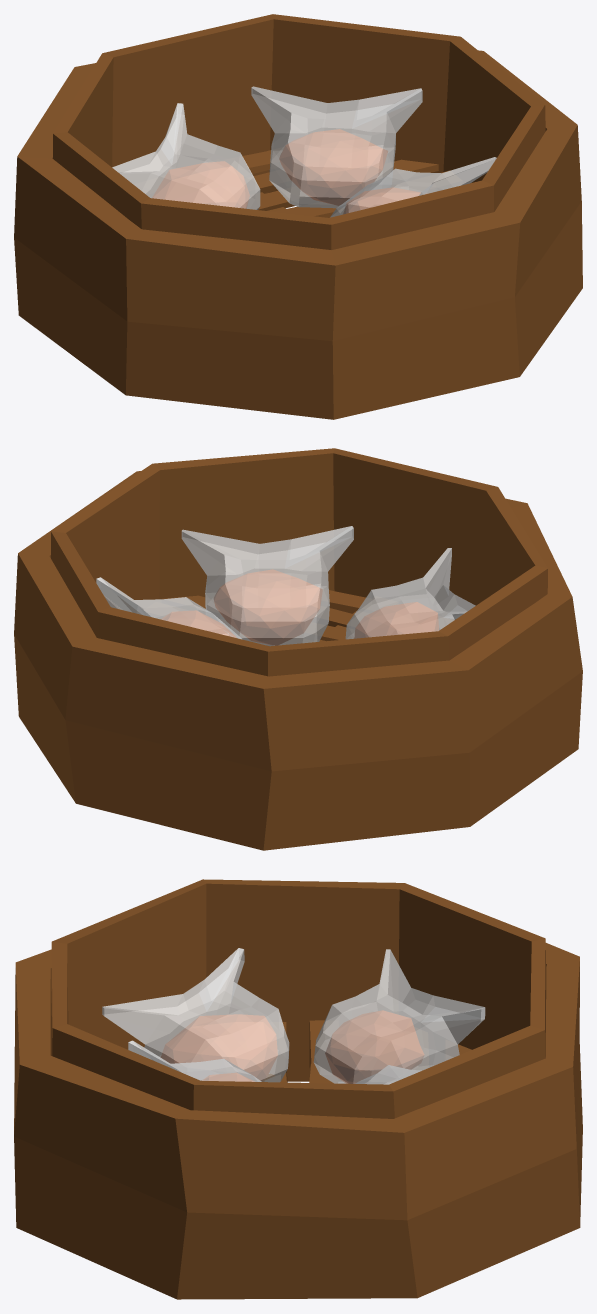
Rendered from Shrimp_Dumpling.fbx.
The picture shows the model from 3 angles, top to bottom: view 1: azimuth 30°, elevation 25°; view 2: azimuth 150°, elevation 25°; view 3: azimuth 270°, elevation 25°; orthographic projection. The views are drawn at different scales.
Parts seen in each view (by area): view 1: Cylinder.001; view 2: Cylinder.001; view 3: Cylinder.001.
Boxes of the visible parts, bbox=[...] form: Cylinder.001: bbox=[14, 14, 582, 419]; Cylinder.001: bbox=[14, 448, 582, 850]; Cylinder.001: bbox=[14, 879, 582, 1299].
Bounding box in the file's own units: 192 × 73.6 × 190.
